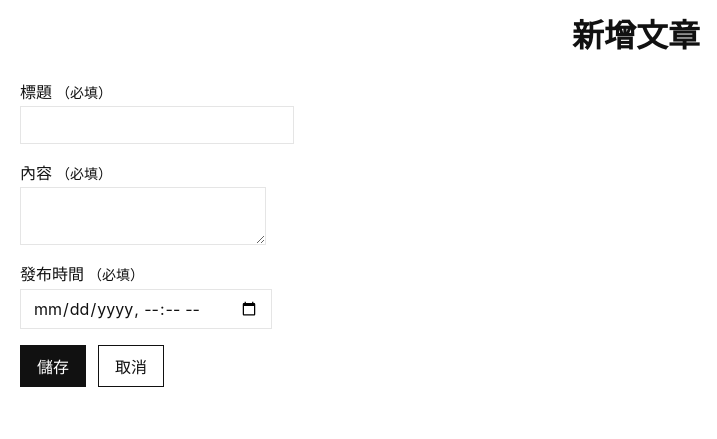
ArticleForm › AC9: 後端回 502(靜態頁面產生失敗)時顯示明確失敗訊息且不聲稱已儲存成功,不導向
Expected: the heading "新增文章" is shown, [572,16,700,55]
Step 1. Type "我的標題" into the field labelled "標題" → [157, 125], box [20,106,294,144]
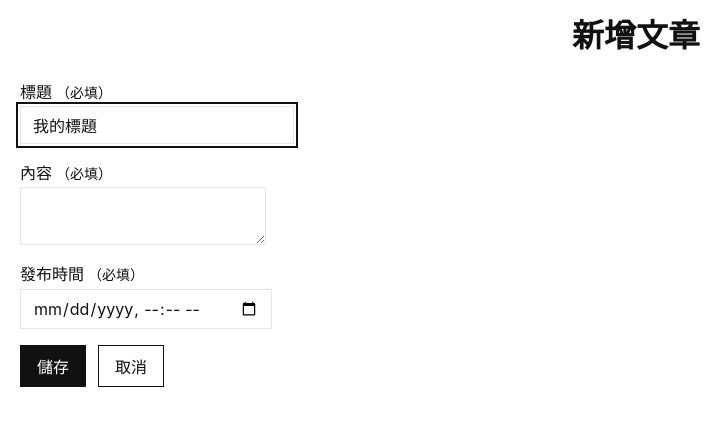
Step 2. Type "我的內容" into the text box labelled "內容" → [143, 216], box [20,187,266,245]
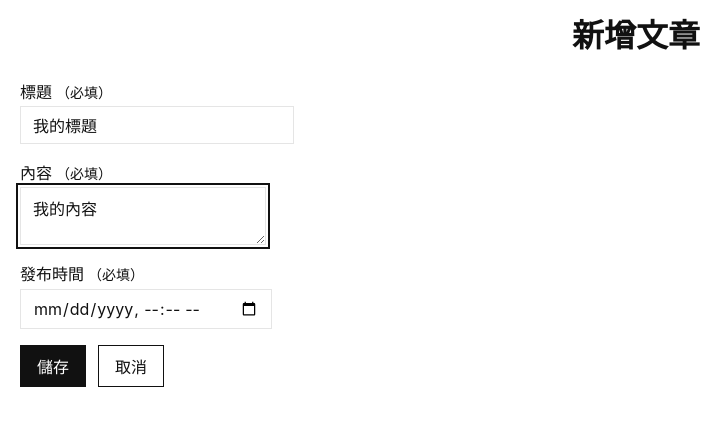
Step 3. Type "2026-08-13T10:00" into the field labelled "發布時間" → [146, 309], box [20,289,272,329]
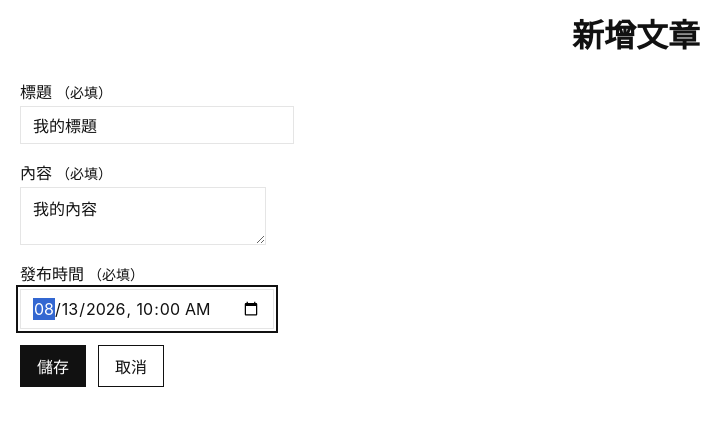
Step 4. Click the button "儲存" → [53, 366], box [20,345,86,387]
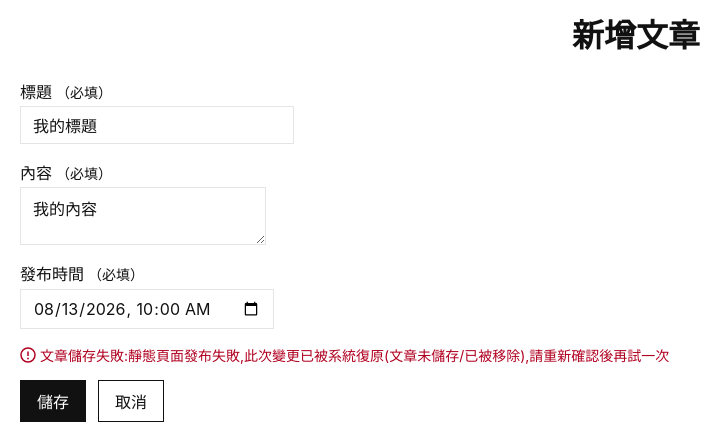
Expected: the heading "新增文章" is shown, [572,16,700,55]
Now the message "文章儲存失敗:靜態頁面發布失敗,此次變更已被系統復原(文章未儲存/已被移除),請重新確認後再試一次" is shown, box [20,347,669,364]
